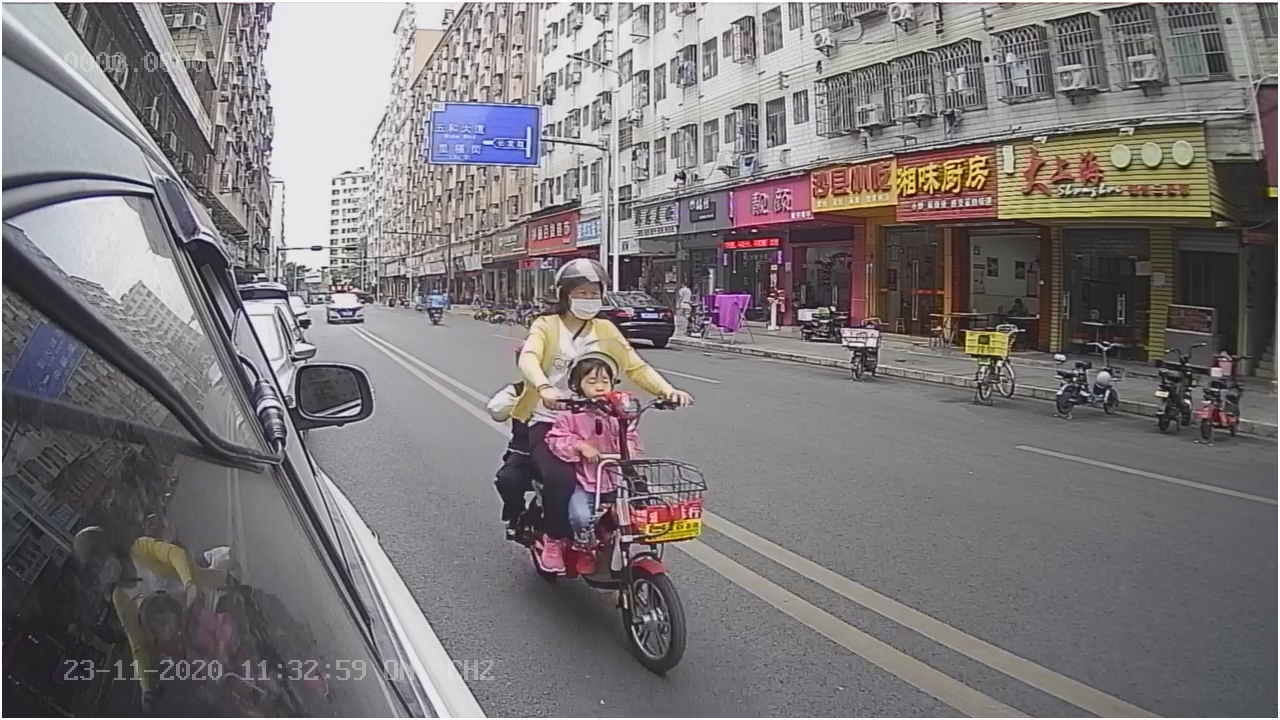person: (514, 254, 658, 404)
